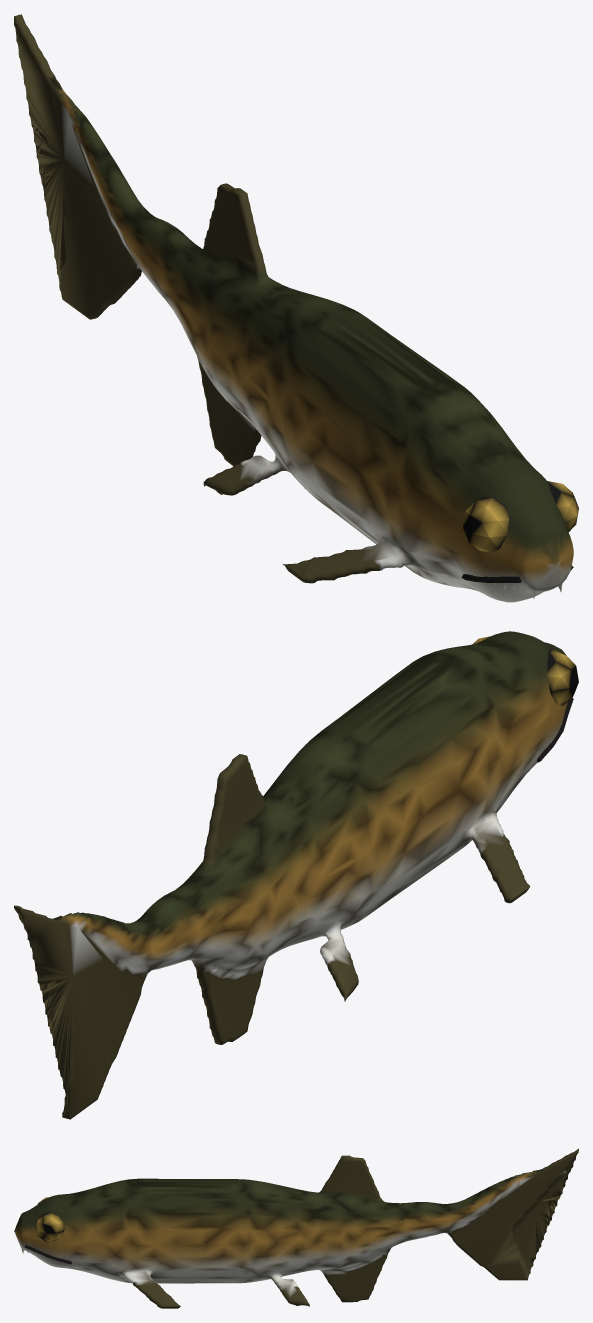
File: Elonichthys.fbx
The picture shows the model from 3 angles, top to bottom: view 1: azimuth 30°, elevation 25°; view 2: azimuth 150°, elevation 25°; view 3: azimuth 270°, elevation 25°; orthographic projection. The views are drawn at different scales.
Parts seen in each view (by area): view 1: Elonichthys; view 2: Elonichthys; view 3: Elonichthys.
Part boxes in pixels (x1,y1,x2,y2): Elonichthys: (14, 14, 578, 602); Elonichthys: (14, 631, 578, 1119); Elonichthys: (14, 1148, 578, 1308).
Size of the model in its own units: 0.3117 by 0.3796 by 1.27.
